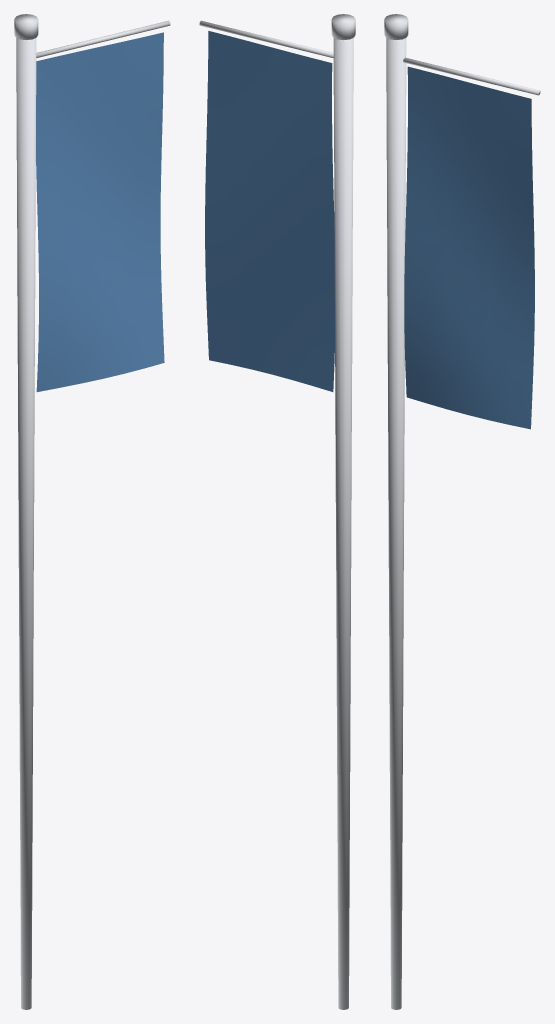
Rendered from ext_flagpole.glb.
3 views of the same model, side by side, from view 1: azimuth 30°, elevation 25°; view 2: azimuth 150°, elevation 25°; view 3: azimuth 330°, elevation 25° (orthographic).
Visible parts, largest first — view 1: Flag, Pole; view 2: Flag, Pole; view 3: Flag, Pole.
Boxes of the visible parts, left/top/right/bottom form: Flag: left=36, top=32, right=164, bottom=391; Pole: left=14, top=14, right=170, bottom=1009; Flag: left=205, top=31, right=334, bottom=391; Pole: left=199, top=14, right=355, bottom=1009; Flag: left=404, top=66, right=534, bottom=429; Pole: left=384, top=14, right=540, bottom=1009.
Size of the model in its own units: 1.19 by 7.34 by 0.16.
